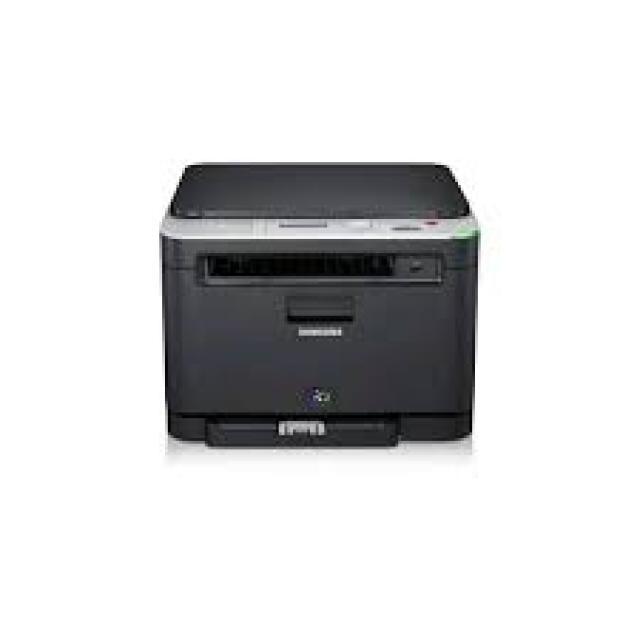printer: (155, 162, 478, 449)
